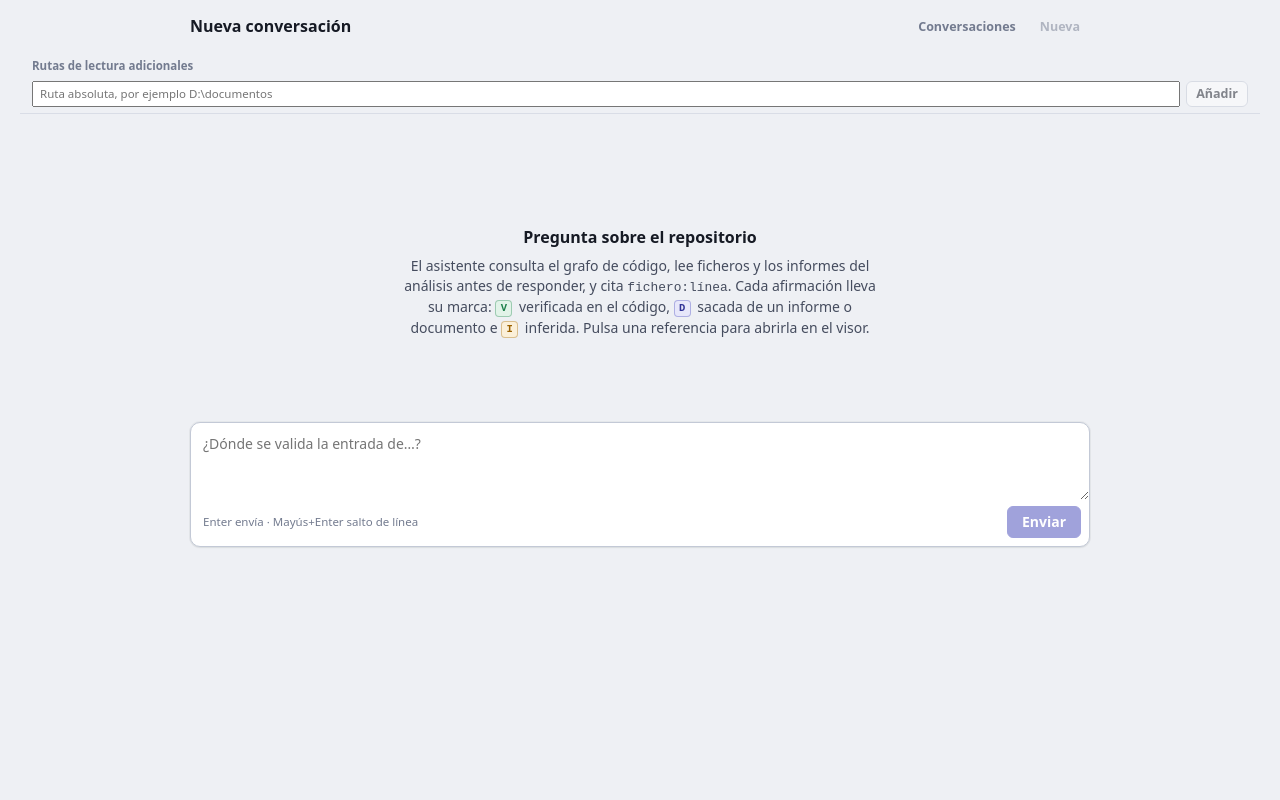
Test: ChatPane: conversaciones en un modal › «Conversaciones» abre el modal ordenado por fecha; elegir una la abre y cierra el modal
Click the button "Conversaciones". click: (967, 27)
box: [908,14,1026,40]
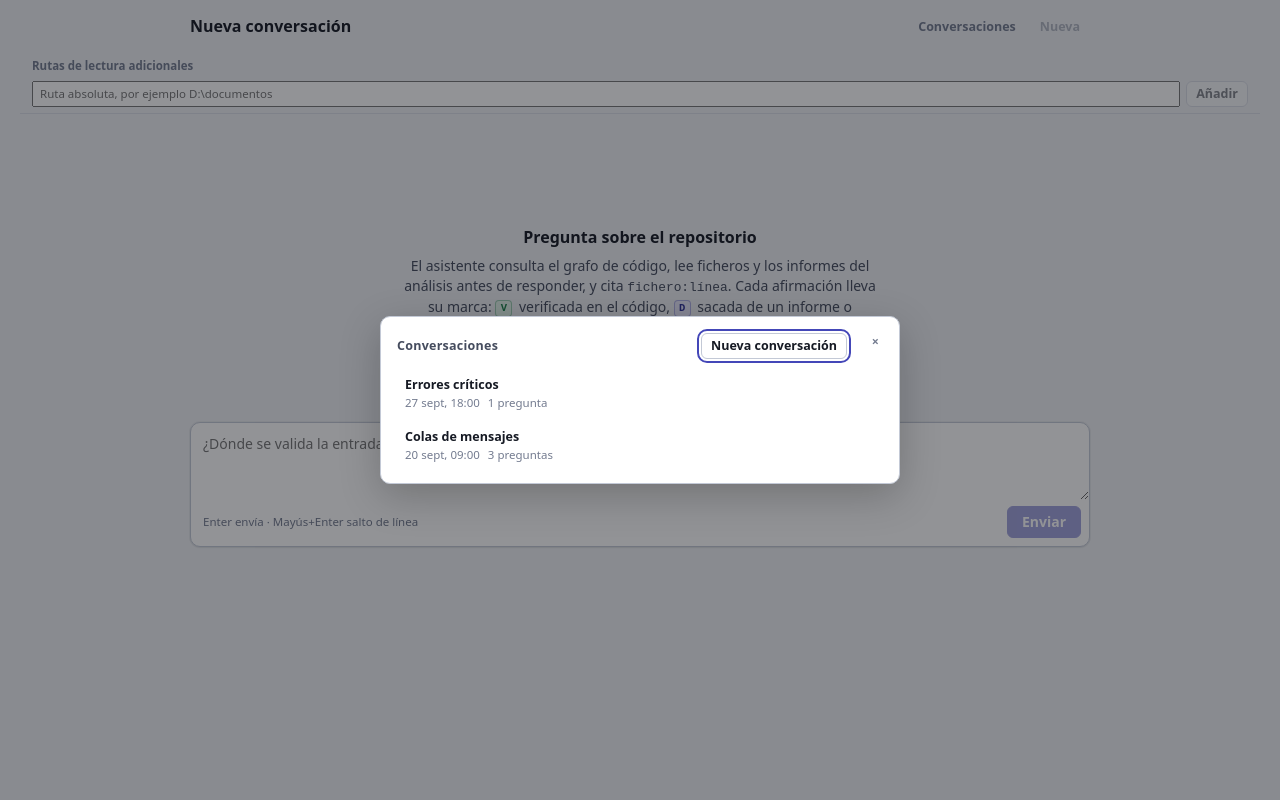
Result: the number of list items is 2 at [397,369,883,419]; [397,421,883,471]
Click the button "Colas de mensajes 20 sept, 09:00 3 preguntas". click: (462, 436)
box: [397,421,822,471]
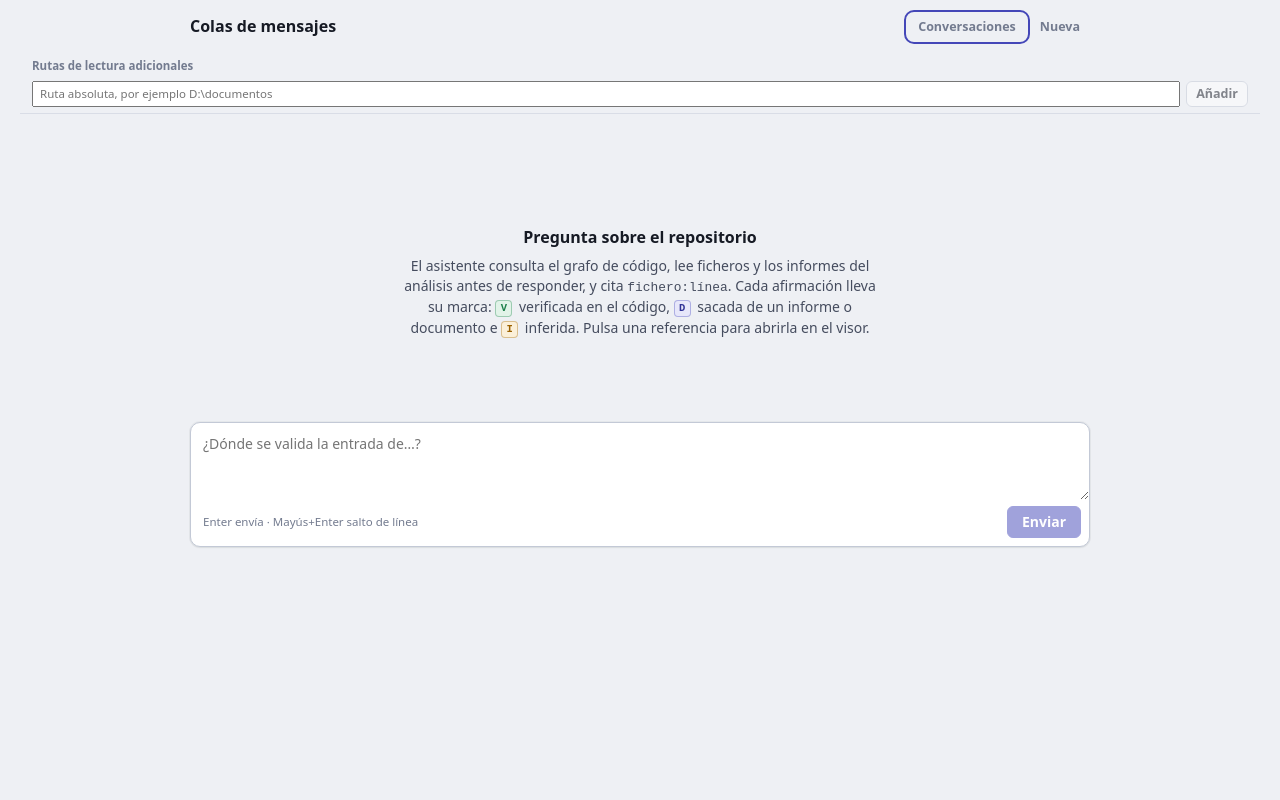
Result: the heading "Colas de mensajes" is shown at [190,15,336,37]
